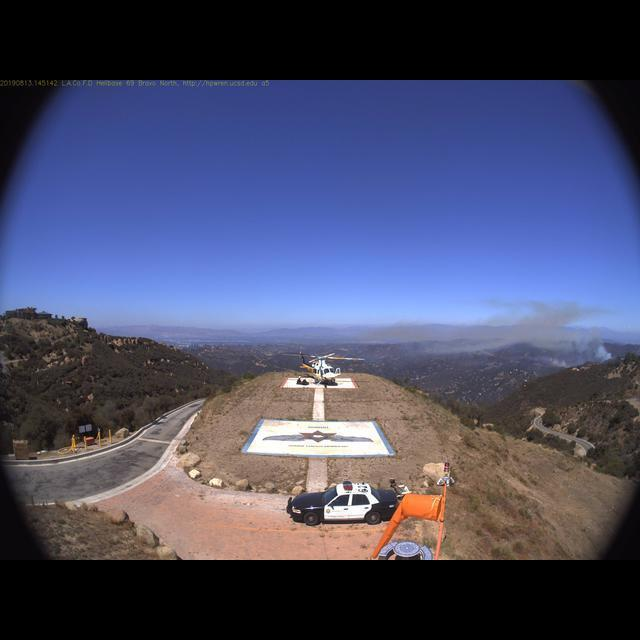Smoke: (477, 291, 615, 363)
